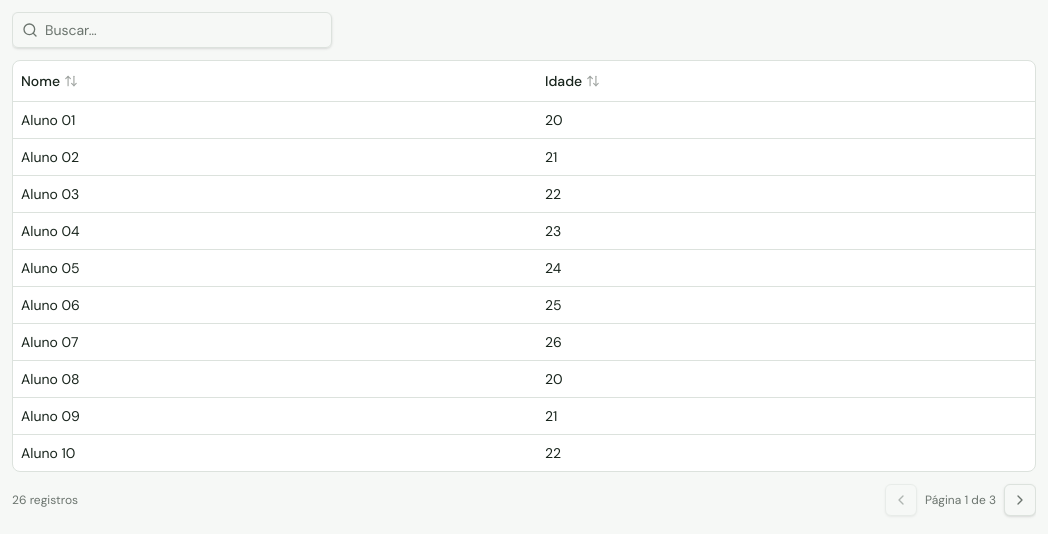
Scenario: DataTable › busca ignorando acentos/caixa e mostra vazio sem resultado
The image size is (1048, 534).
Type "jose alvaro" into the field labelled "Buscar" at (172, 30), box [12,12,332,48]
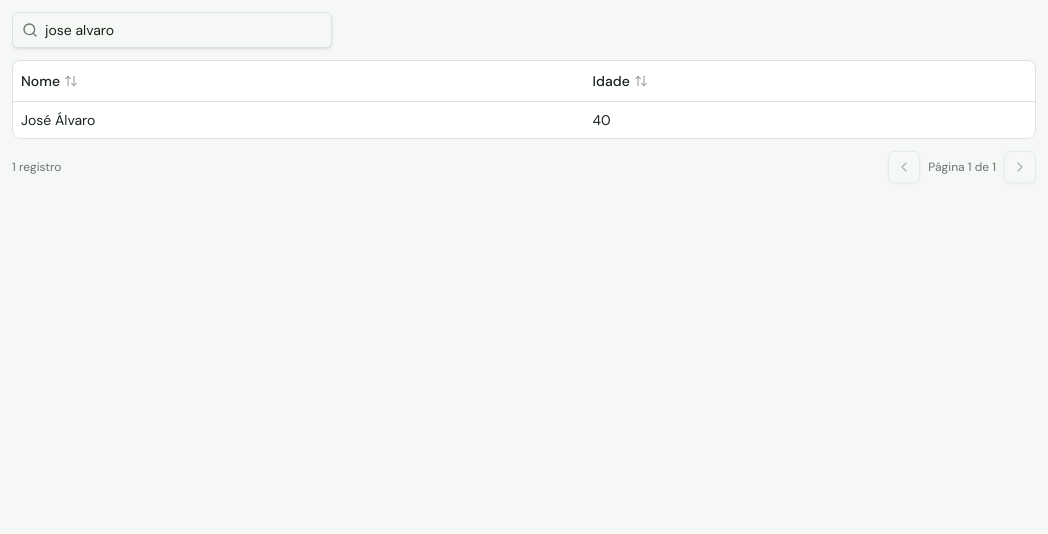
Replace the text in the field named "Buscar" with "zzz" at (172, 30), box [12,12,332,48]
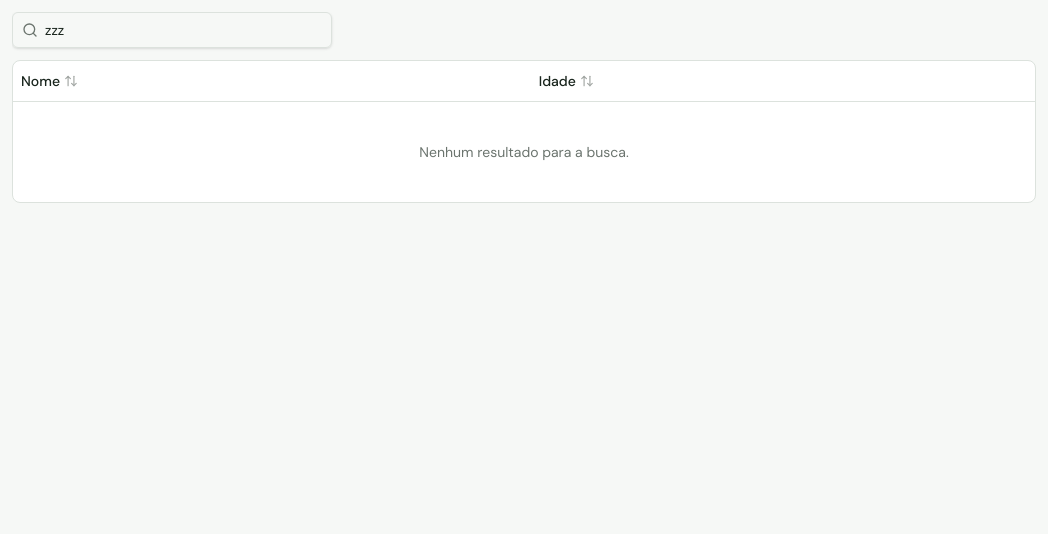
Expected: the row with test id "table-empty" shows "Nenhum resultado", [419,142,629,160]
